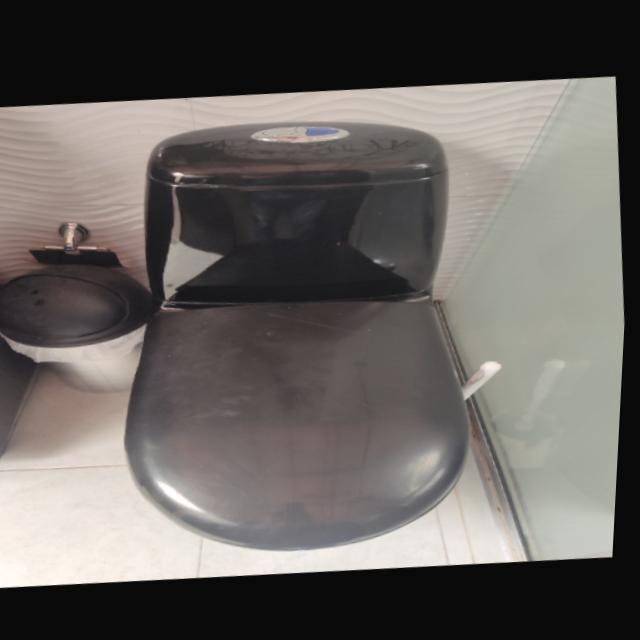toilet: (96, 95, 517, 567)
